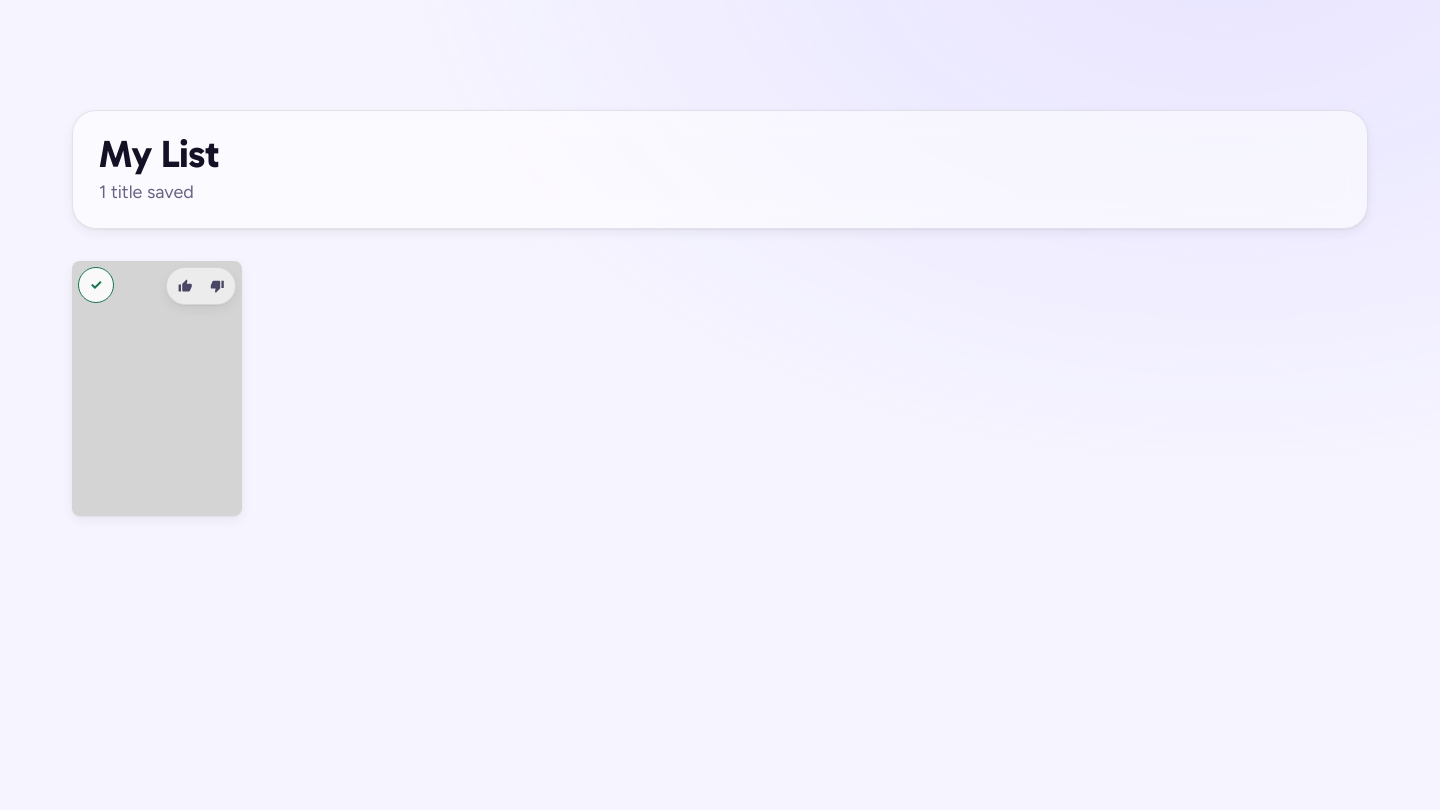
Test case: MyListPage › removes a title from its card and toasts
The image size is (1440, 810).
Click the button named "Remove Neon Drift from My List".
click(96, 285)  # box top-left (78, 267), bottom-right (114, 303)
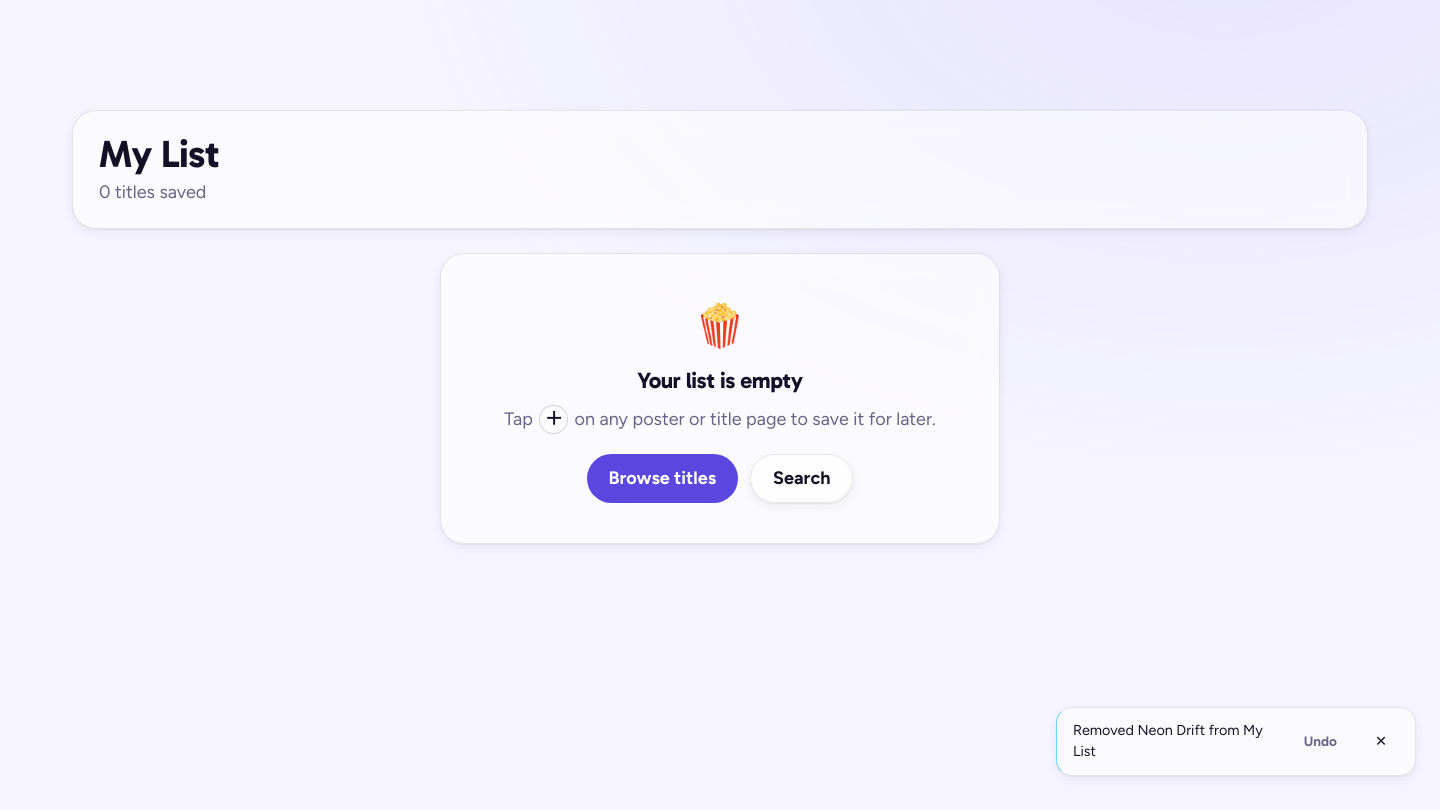
Expected: the heading "Your list is empty" is shown, top-left (638, 369), bottom-right (802, 393)
Expected: the text "Removed Neon Drift from My List" is shown, top-left (1073, 720), bottom-right (1278, 763)
